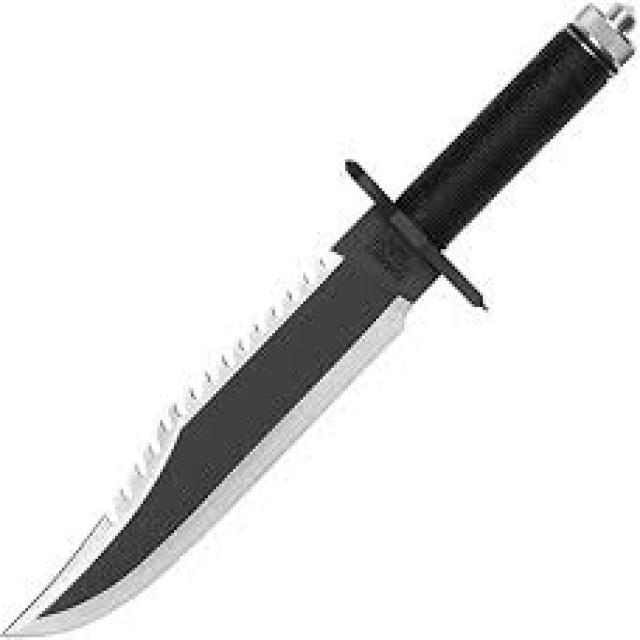Knife: (3, 6, 632, 634)
